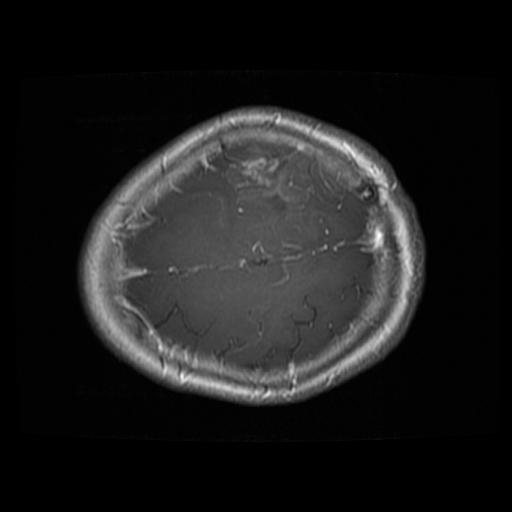glioma: (219, 144, 346, 212)
